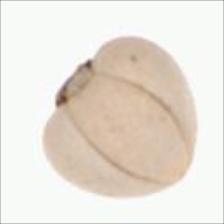L5: (69, 73, 191, 189), (53, 56, 100, 114), (153, 140, 196, 194)
L6: (38, 35, 201, 201)
